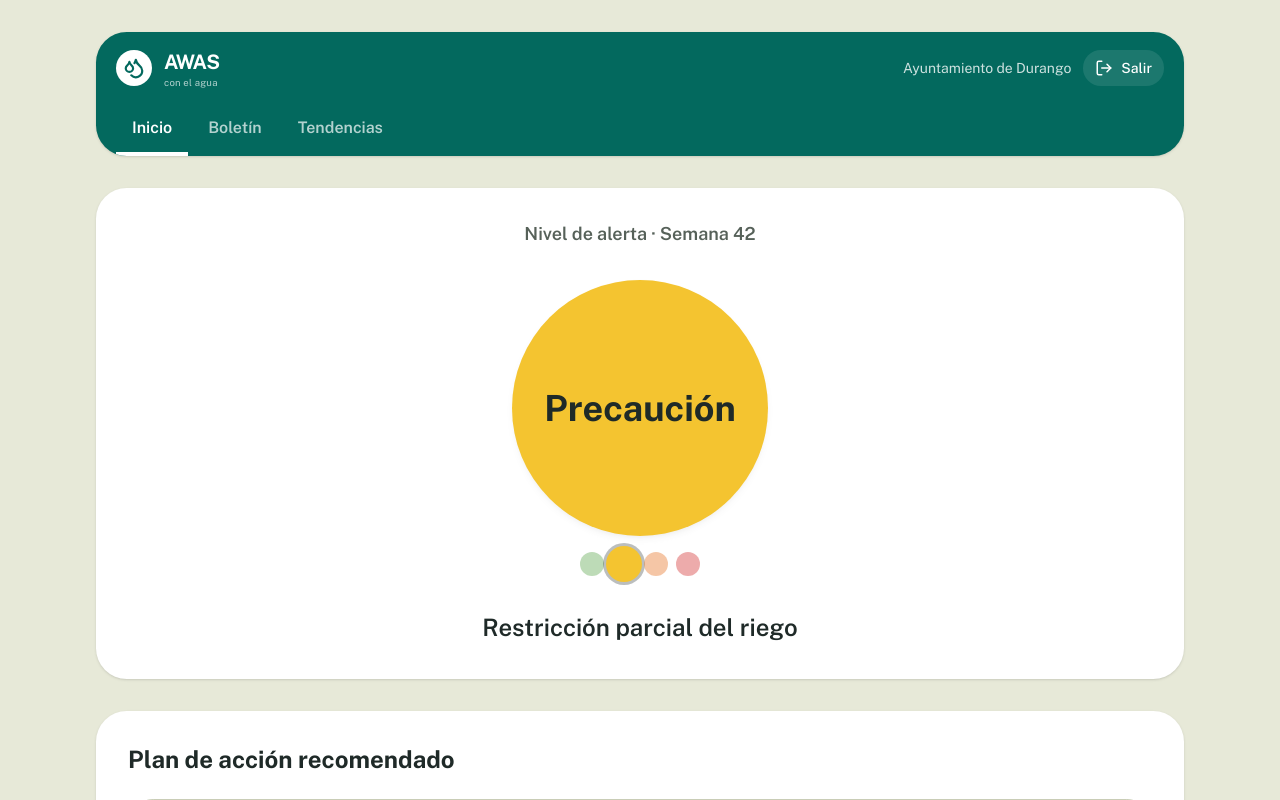
Test: AyuntamientoDashboard › Tendencias: grafica el historial de la primera presa
Expected: the text "Nivel de alerta · Semana 42" is shown, [524,220,756,248]
Click the button "Tendencias" at x=340, y=130, box [282,104,399,156]
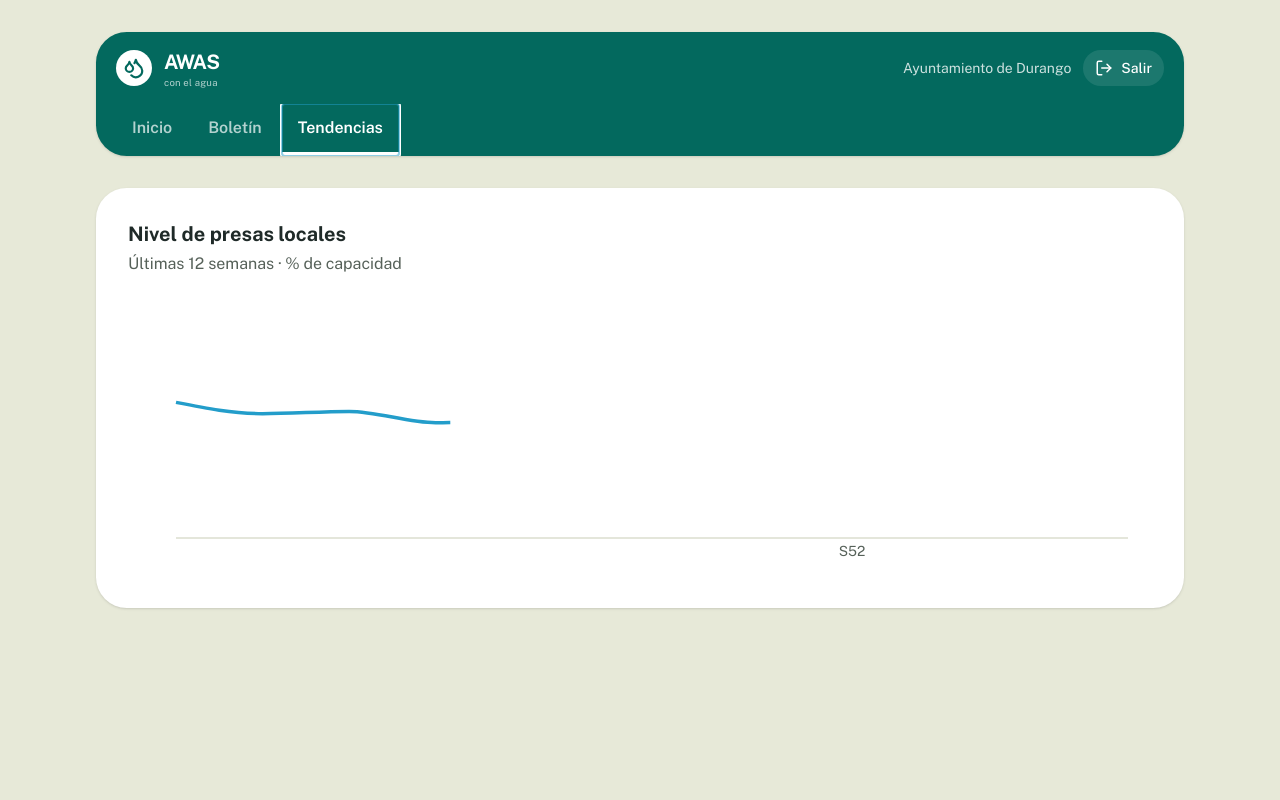
Expected: the icon next to "AWAS" is shown, [123,57,145,79]
Now the heading "Nivel de presas locales" is shown, box [128,222,346,246]
